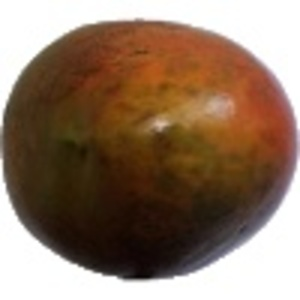manga: (1, 17, 300, 280)
